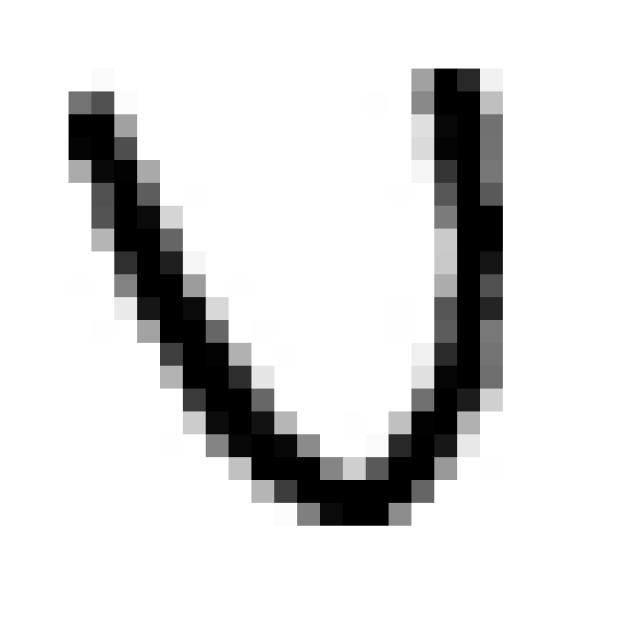7 -seven-: (46, 48, 525, 543)
